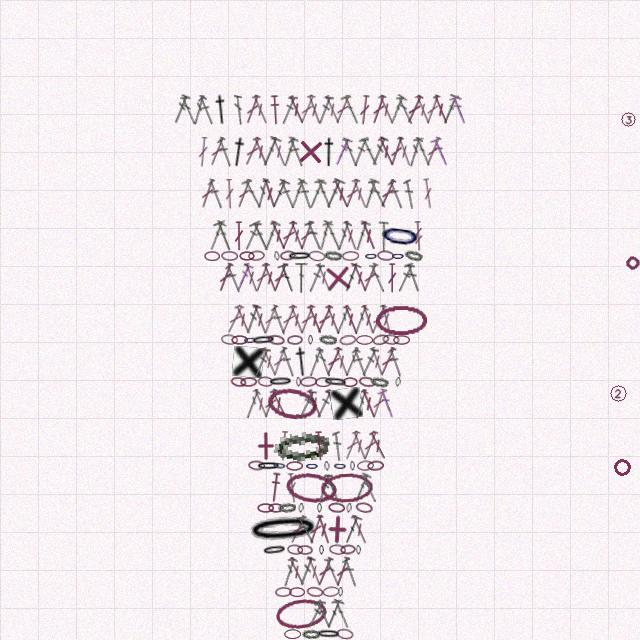chain: (245, 512, 322, 547), (272, 428, 331, 464), (265, 385, 320, 422), (274, 596, 329, 632), (284, 470, 338, 506), (320, 472, 373, 504), (378, 218, 423, 253), (375, 305, 427, 335), (262, 544, 287, 556), (323, 376, 348, 388), (251, 334, 276, 346), (268, 376, 293, 387), (316, 629, 341, 639), (256, 461, 281, 471), (287, 251, 312, 261), (404, 249, 423, 262), (355, 501, 373, 514), (372, 333, 390, 346), (370, 376, 389, 388), (336, 628, 354, 640), (306, 586, 324, 598), (358, 376, 376, 388), (267, 334, 285, 346), (339, 334, 357, 346), (308, 250, 326, 262), (230, 376, 247, 388), (322, 586, 340, 597), (278, 502, 296, 513), (319, 334, 337, 345), (382, 334, 400, 345), (324, 250, 342, 261), (329, 544, 346, 555), (328, 502, 345, 513), (248, 460, 265, 471), (357, 460, 374, 471), (367, 460, 384, 471), (257, 376, 274, 387), (300, 376, 317, 387), (221, 334, 238, 345), (248, 250, 265, 261), (377, 250, 394, 261), (302, 629, 320, 639), (287, 544, 303, 555), (340, 544, 356, 555), (280, 250, 296, 261), (284, 629, 301, 639), (275, 587, 292, 597), (257, 503, 274, 513), (286, 461, 303, 471), (240, 377, 257, 387), (315, 377, 332, 387), (231, 335, 248, 345), (356, 335, 373, 345), (393, 335, 410, 345), (221, 251, 238, 261), (342, 251, 359, 261), (243, 334, 257, 346), (272, 460, 287, 471), (289, 587, 305, 597), (297, 545, 313, 555), (268, 503, 284, 513), (342, 377, 358, 387), (287, 335, 303, 345), (204, 251, 220, 261), (239, 251, 255, 261), (305, 461, 319, 471), (333, 461, 347, 471), (364, 251, 378, 261), (391, 251, 405, 261), (298, 503, 304, 513), (346, 503, 352, 513), (324, 461, 330, 471), (395, 377, 401, 387), (274, 251, 280, 261), (338, 587, 343, 597), (319, 545, 324, 555), (356, 545, 361, 555), (317, 503, 322, 513), (350, 461, 355, 471), (296, 377, 301, 387), (308, 335, 313, 345)
double: (249, 220, 273, 252), (322, 178, 346, 210), (213, 220, 236, 252), (268, 178, 291, 210), (259, 136, 282, 168), (439, 94, 462, 126), (323, 598, 345, 630), (341, 514, 363, 546), (286, 556, 308, 587), (287, 514, 309, 545), (350, 472, 372, 503), (367, 430, 389, 461), (268, 388, 290, 419), (224, 304, 246, 335), (241, 178, 263, 209), (305, 178, 327, 209), (358, 136, 380, 167), (386, 94, 408, 125), (277, 262, 298, 294), (341, 262, 362, 294), (331, 598, 352, 629), (349, 514, 370, 545), (259, 346, 280, 377), (323, 346, 344, 377), (377, 346, 398, 377), (278, 304, 299, 335), (314, 304, 335, 335), (368, 304, 389, 335), (233, 262, 254, 293), (206, 220, 227, 251), (260, 220, 281, 251), (268, 220, 289, 251), (278, 220, 299, 251), (304, 220, 325, 251), (322, 220, 343, 251), (287, 178, 308, 209), (331, 178, 352, 209), (377, 178, 398, 209), (242, 136, 263, 167), (332, 136, 353, 167), (376, 136, 397, 167), (430, 136, 451, 167), (250, 94, 271, 125), (286, 94, 307, 125), (322, 94, 343, 125), (332, 94, 353, 125), (340, 94, 361, 125), (376, 94, 397, 125), (404, 94, 425, 125), (315, 556, 335, 587), (342, 430, 362, 461), (350, 430, 370, 461), (360, 430, 380, 461), (251, 388, 271, 419), (305, 388, 325, 419), (323, 388, 343, 419), (359, 388, 379, 419), (377, 388, 397, 419), (332, 346, 352, 377), (233, 304, 253, 335), (287, 304, 307, 335), (297, 304, 317, 335), (305, 304, 325, 335), (323, 304, 343, 335), (341, 304, 361, 335), (252, 262, 272, 293), (260, 262, 280, 293), (270, 262, 290, 293), (314, 262, 334, 293), (350, 262, 370, 293), (360, 262, 380, 293), (287, 220, 307, 251), (351, 220, 371, 251), (359, 220, 379, 251), (234, 178, 254, 209), (314, 178, 334, 209), (342, 178, 362, 209), (350, 178, 370, 209), (360, 178, 380, 209), (207, 136, 227, 167), (251, 136, 271, 167), (269, 136, 289, 167), (279, 136, 299, 167), (369, 136, 389, 167), (413, 136, 433, 167), (423, 136, 443, 167), (171, 94, 191, 125), (297, 94, 317, 125), (413, 94, 433, 125), (431, 94, 451, 125), (449, 94, 469, 125), (306, 599, 326, 629), (297, 389, 317, 419), (297, 556, 316, 587), (305, 556, 324, 587), (333, 556, 352, 587), (306, 514, 325, 545), (261, 388, 280, 419), (369, 388, 388, 419), (270, 346, 289, 377), (368, 346, 387, 377), (243, 304, 262, 335), (251, 304, 270, 335), (261, 304, 280, 335), (359, 304, 378, 335), (216, 262, 235, 293), (242, 262, 261, 293), (404, 262, 423, 293), (297, 220, 316, 251), (315, 220, 334, 251), (341, 220, 360, 251), (198, 178, 217, 209), (387, 136, 406, 167), (395, 136, 414, 167), (243, 94, 262, 125), (305, 94, 324, 125), (369, 94, 388, 125), (423, 94, 442, 125), (314, 599, 333, 629), (296, 515, 315, 545), (315, 389, 334, 419), (360, 347, 379, 377), (224, 263, 243, 293), (396, 263, 415, 293), (243, 221, 262, 251), (278, 179, 297, 209), (368, 179, 387, 209), (287, 137, 306, 167), (197, 95, 216, 125), (315, 514, 333, 545), (261, 178, 279, 209), (280, 557, 298, 587), (360, 473, 378, 503), (253, 347, 271, 377), (279, 347, 297, 377), (343, 347, 361, 377), (351, 347, 369, 377), (270, 305, 288, 335), (334, 305, 352, 335), (307, 263, 325, 293), (334, 221, 352, 251), (207, 179, 225, 209), (387, 179, 405, 209), (216, 137, 234, 167), (280, 95, 298, 125), (316, 95, 334, 125), (396, 95, 414, 125), (378, 304, 395, 335), (324, 557, 341, 587), (342, 557, 359, 587), (316, 473, 333, 503), (324, 473, 341, 503), (244, 389, 261, 419), (307, 347, 324, 377), (387, 347, 404, 377), (352, 305, 369, 335), (369, 263, 386, 293), (297, 179, 314, 209), (342, 137, 359, 167), (352, 137, 369, 167), (406, 137, 423, 167), (180, 95, 197, 125), (190, 95, 207, 125), (254, 178, 270, 209), (353, 389, 369, 419), (316, 347, 332, 377), (421, 178, 435, 209), (286, 472, 299, 504), (295, 263, 308, 293), (403, 179, 416, 209), (358, 95, 371, 125), (377, 221, 389, 251), (197, 137, 209, 167), (332, 431, 343, 461), (224, 179, 235, 209), (387, 263, 397, 293), (234, 221, 244, 251), (234, 95, 243, 125)
half_double: (228, 136, 249, 168), (292, 346, 311, 377), (212, 94, 230, 125), (320, 137, 338, 167), (268, 472, 282, 503), (313, 431, 326, 461), (269, 95, 281, 125)
noise: (612, 457, 633, 478), (608, 383, 629, 404), (619, 110, 638, 129), (625, 255, 640, 271)
single: (330, 387, 363, 420), (232, 346, 264, 378), (322, 262, 354, 294), (322, 514, 353, 545), (295, 136, 326, 167), (251, 431, 281, 461)
treble: (278, 431, 290, 461), (413, 221, 424, 251)
